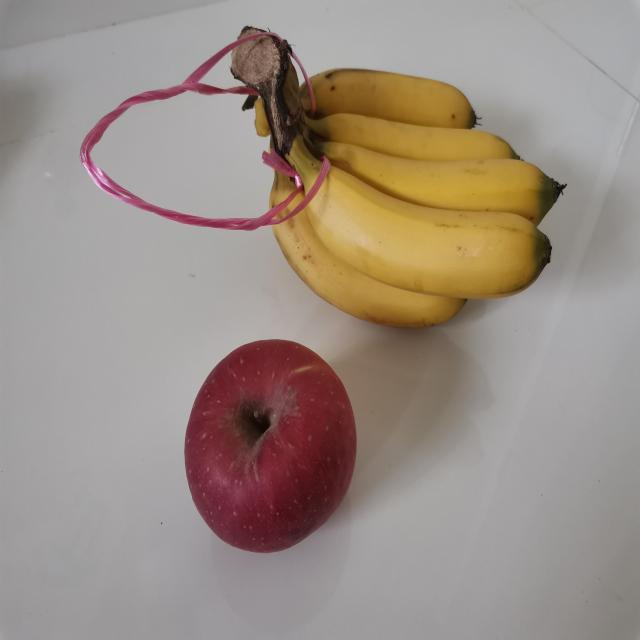Apple: (183, 336, 359, 555)
Banana: (229, 20, 567, 334)
